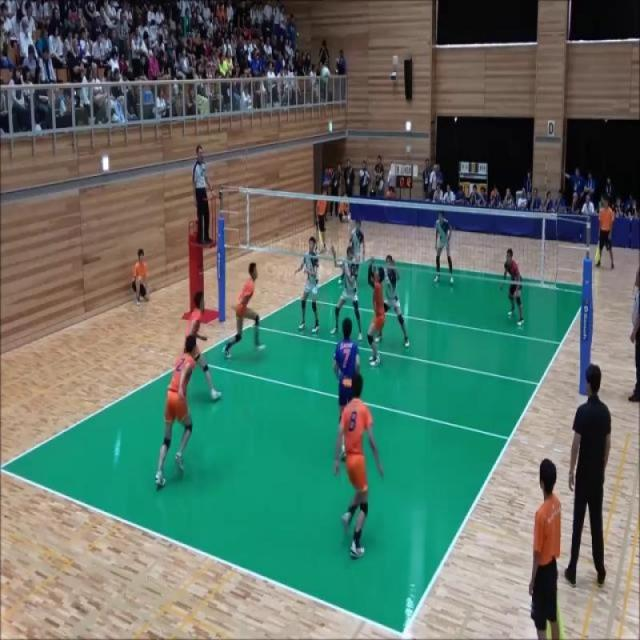volleyball: (320, 64, 331, 84)
